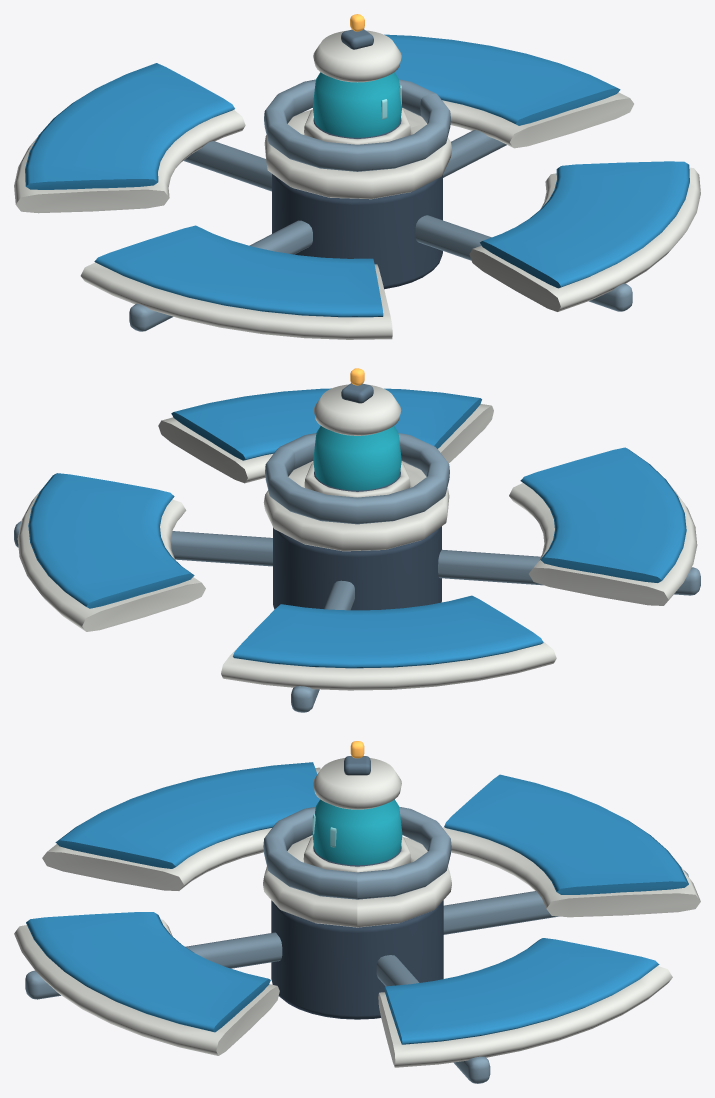
The model's file is stellar_energy_array_lv4.glb.
The picture shows the model from 3 angles, top to bottom: view 1: azimuth 30°, elevation 25°; view 2: azimuth 150°, elevation 25°; view 3: azimuth 270°, elevation 25°; orthographic projection.
Visible parts, largest first — view 1: Structure; view 2: Structure; view 3: Structure.
Boxes of the visible parts, box(x1,y1,x2,y2) form: Structure: box(14, 14, 700, 339); Structure: box(14, 368, 700, 712); Structure: box(14, 741, 700, 1083).
Bounding box in the file's own units: 9.18 × 3.59 × 9.18.
